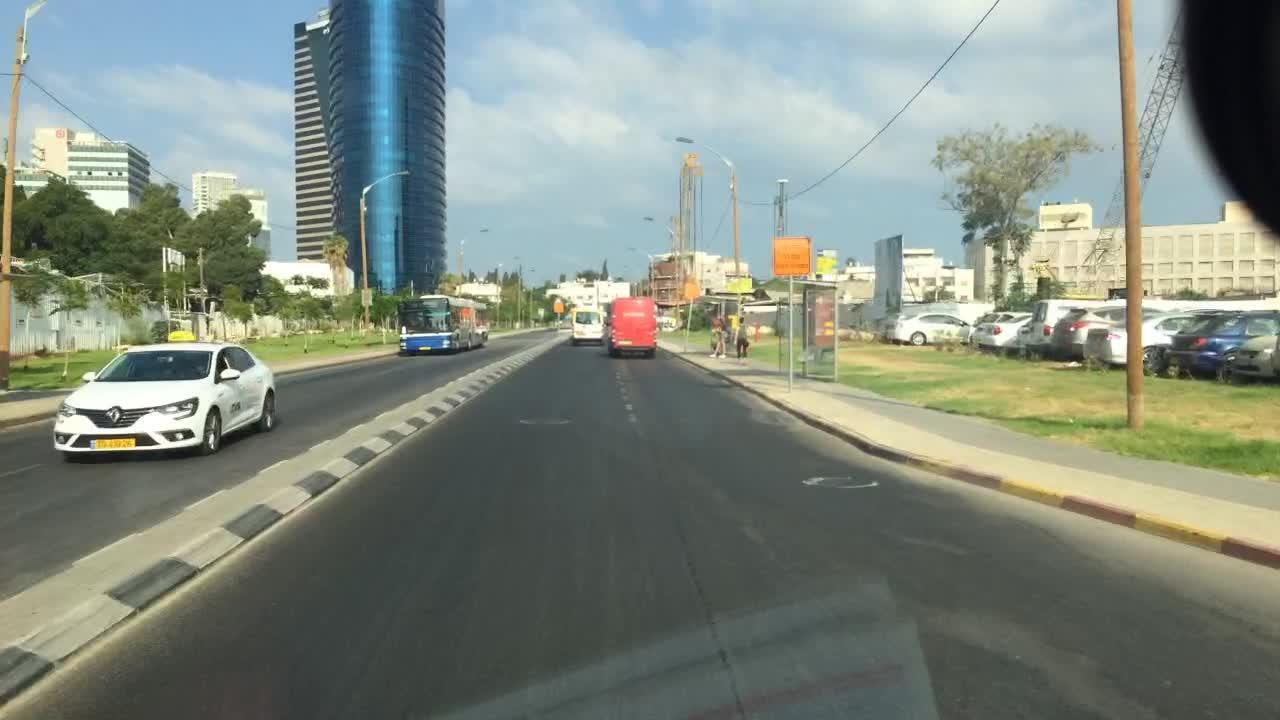Renault: (108, 407, 123, 425)
